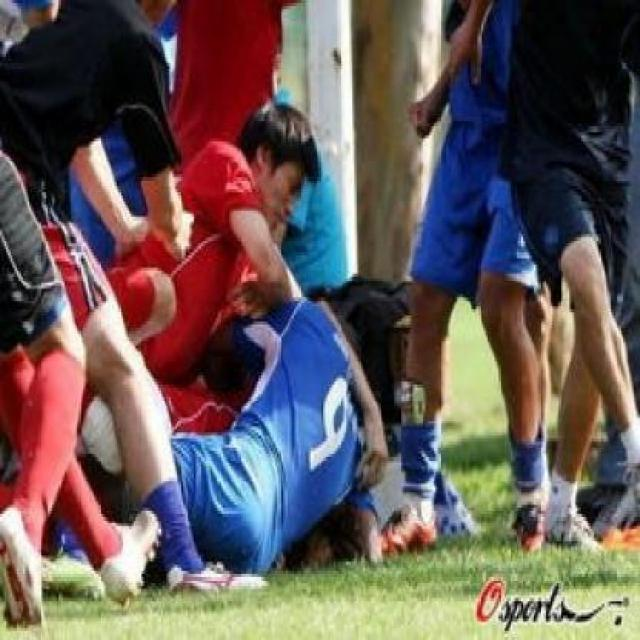fall: (23, 222, 408, 598)
